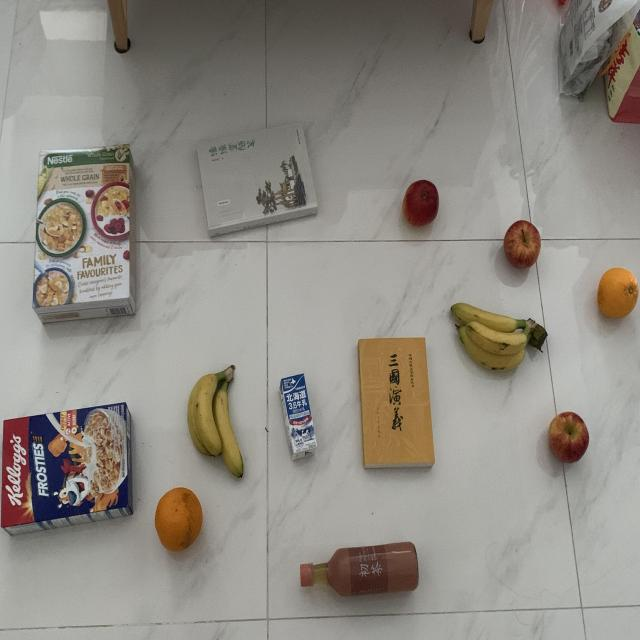Apple: (498, 217, 543, 271), (547, 412, 590, 464), (399, 180, 441, 229)
Banana: (183, 360, 247, 482), (449, 300, 547, 377)
Book: (191, 119, 322, 241), (354, 335, 439, 472)
Cerealbox: (30, 138, 140, 328), (0, 397, 137, 536)
Orange: (152, 484, 204, 552), (595, 266, 639, 322)
